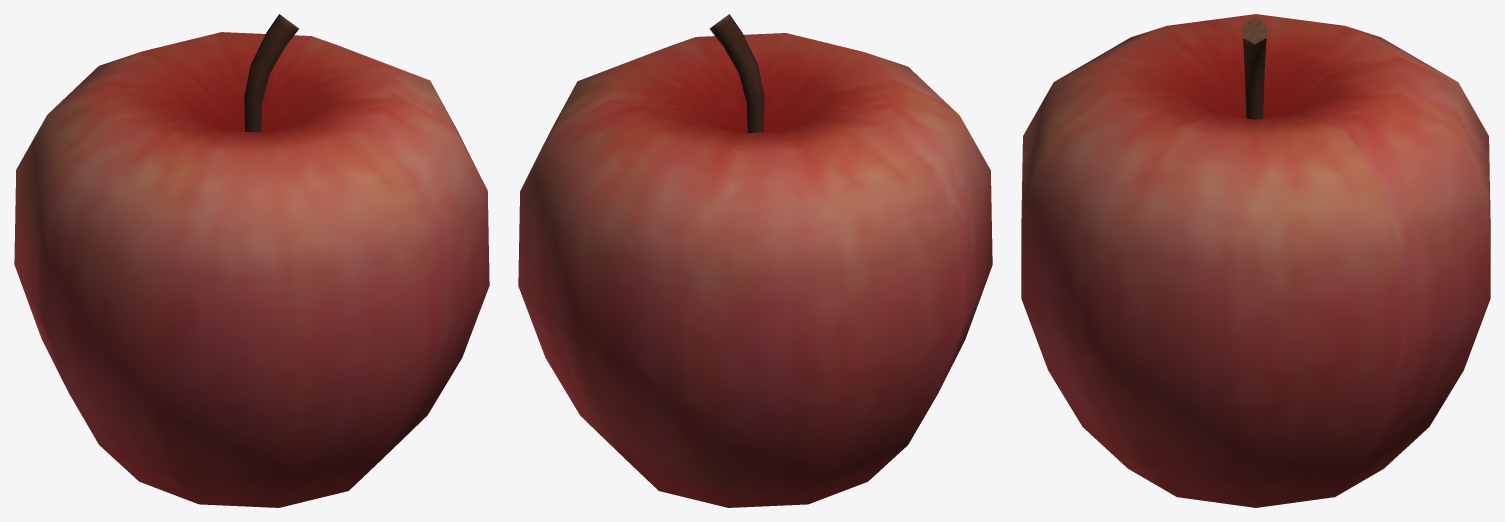
File: SiZheBingFang_01_PingGuo_01_uv2.FBX
3 renders of one model, left to right at view 1: azimuth 30°, elevation 25°; view 2: azimuth 150°, elevation 25°; view 3: azimuth 270°, elevation 25°, orthographic. The views are drawn at different scales.
Visible parts, largest first — view 1: TianZhuJiaoTang_01_pingguo_01; view 2: TianZhuJiaoTang_01_pingguo_01; view 3: TianZhuJiaoTang_01_pingguo_01.
Boxes of the visible parts, <box> form: TianZhuJiaoTang_01_pingguo_01: <box>14,14,489,507</box>; TianZhuJiaoTang_01_pingguo_01: <box>518,14,992,507</box>; TianZhuJiaoTang_01_pingguo_01: <box>1021,14,1490,507</box>.
Size of the model in its own units: 55.26 by 56.11 by 52.56.
